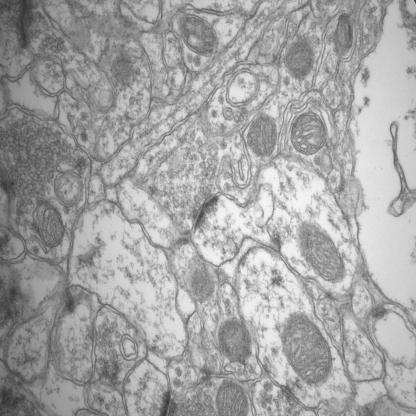mitochondria: (276, 309, 336, 391), (299, 217, 349, 288), (176, 9, 220, 64), (28, 194, 65, 258), (290, 107, 332, 161), (213, 314, 254, 368), (279, 36, 318, 86), (244, 112, 282, 160), (213, 374, 247, 416), (330, 12, 358, 60), (190, 263, 212, 302)
